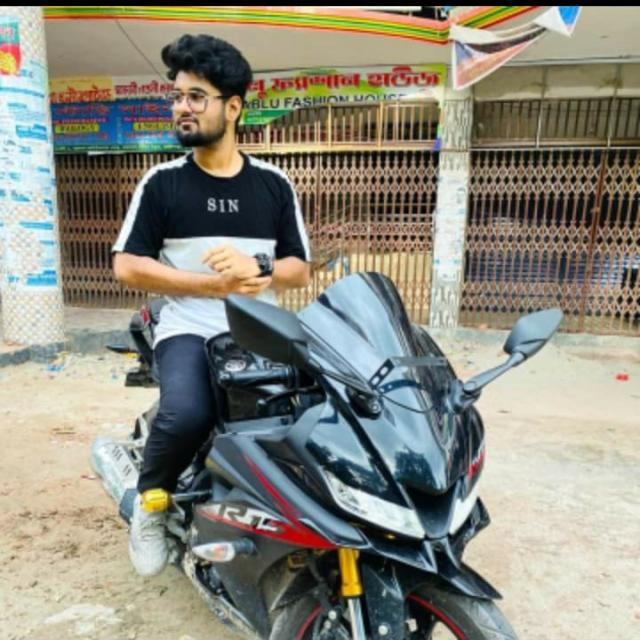Not Wearing Helmet: (139, 30, 288, 206)
